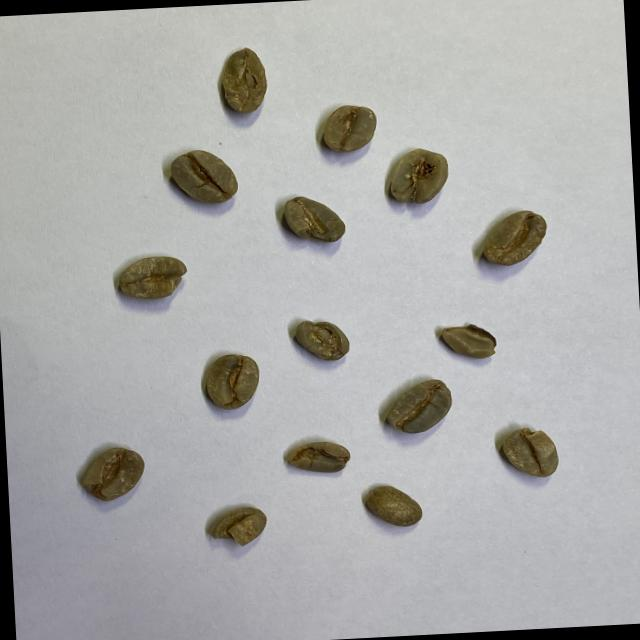bad: (479, 208, 550, 269), (387, 143, 452, 206), (80, 445, 148, 503), (217, 45, 271, 118), (116, 252, 190, 304), (280, 192, 348, 246), (500, 425, 562, 481), (295, 316, 352, 366), (437, 321, 498, 364), (286, 438, 353, 476), (212, 505, 268, 549)
good: (170, 148, 242, 208), (386, 377, 454, 436), (204, 351, 262, 411), (320, 102, 380, 155), (364, 482, 426, 530)
